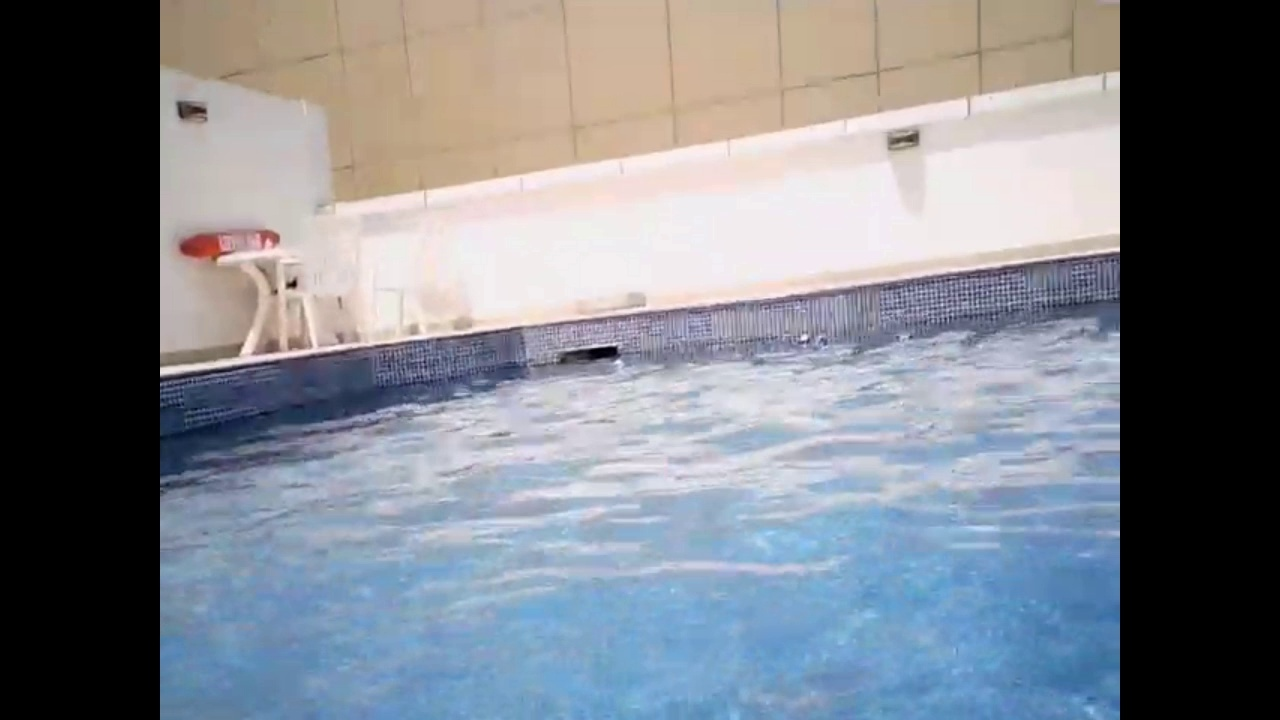debris: (810, 332, 830, 349), (794, 331, 810, 348), (611, 355, 623, 368)
